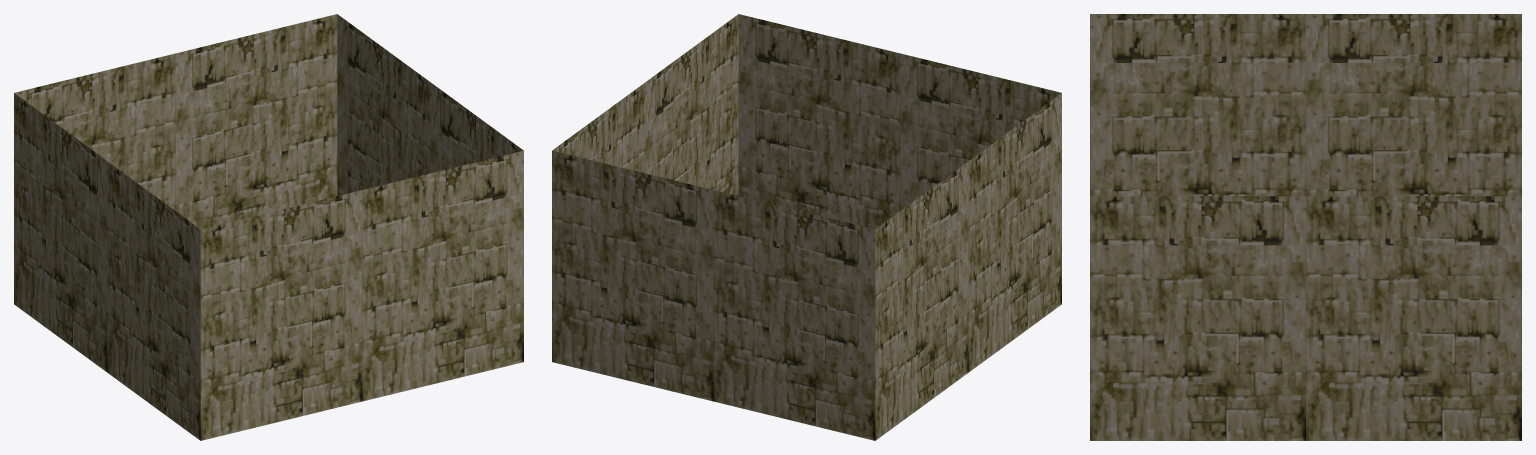
File: MAP000.obj
3 renders of one model, left to right at view 1: azimuth 30°, elevation 25°; view 2: azimuth 150°, elevation 25°; view 3: azimuth 270°, elevation 25°, orthographic. The views are drawn at different scales.
Parts seen in each view (by area): view 1: mesh_4, mesh_3; view 2: mesh_4, mesh_3; view 3: mesh_4, mesh_3.
Part boxes in pixels (left/top/right/bottom): mesh_4: left=14, top=56, right=523, bottom=440; mesh_3: left=14, top=14, right=523, bottom=271; mesh_4: left=552, top=56, right=1061, bottom=440; mesh_3: left=552, top=14, right=1061, bottom=271; mesh_4: left=1090, top=63, right=1521, bottom=440; mesh_3: left=1090, top=14, right=1521, bottom=245.
Bounding box in the file's own units: 102 × 64 × 102.
Materials: 5 (5 with a texture image).
